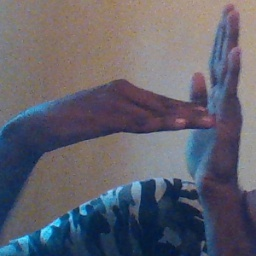Z: (129, 1, 247, 184)
